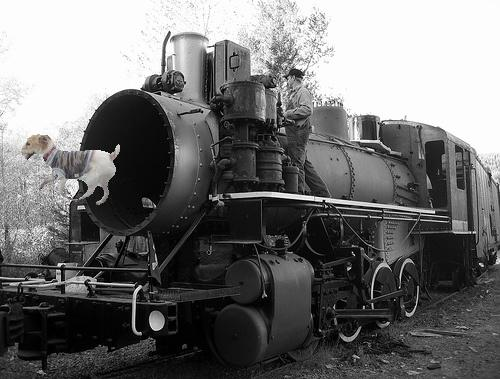tampered: (22, 135, 120, 205)
